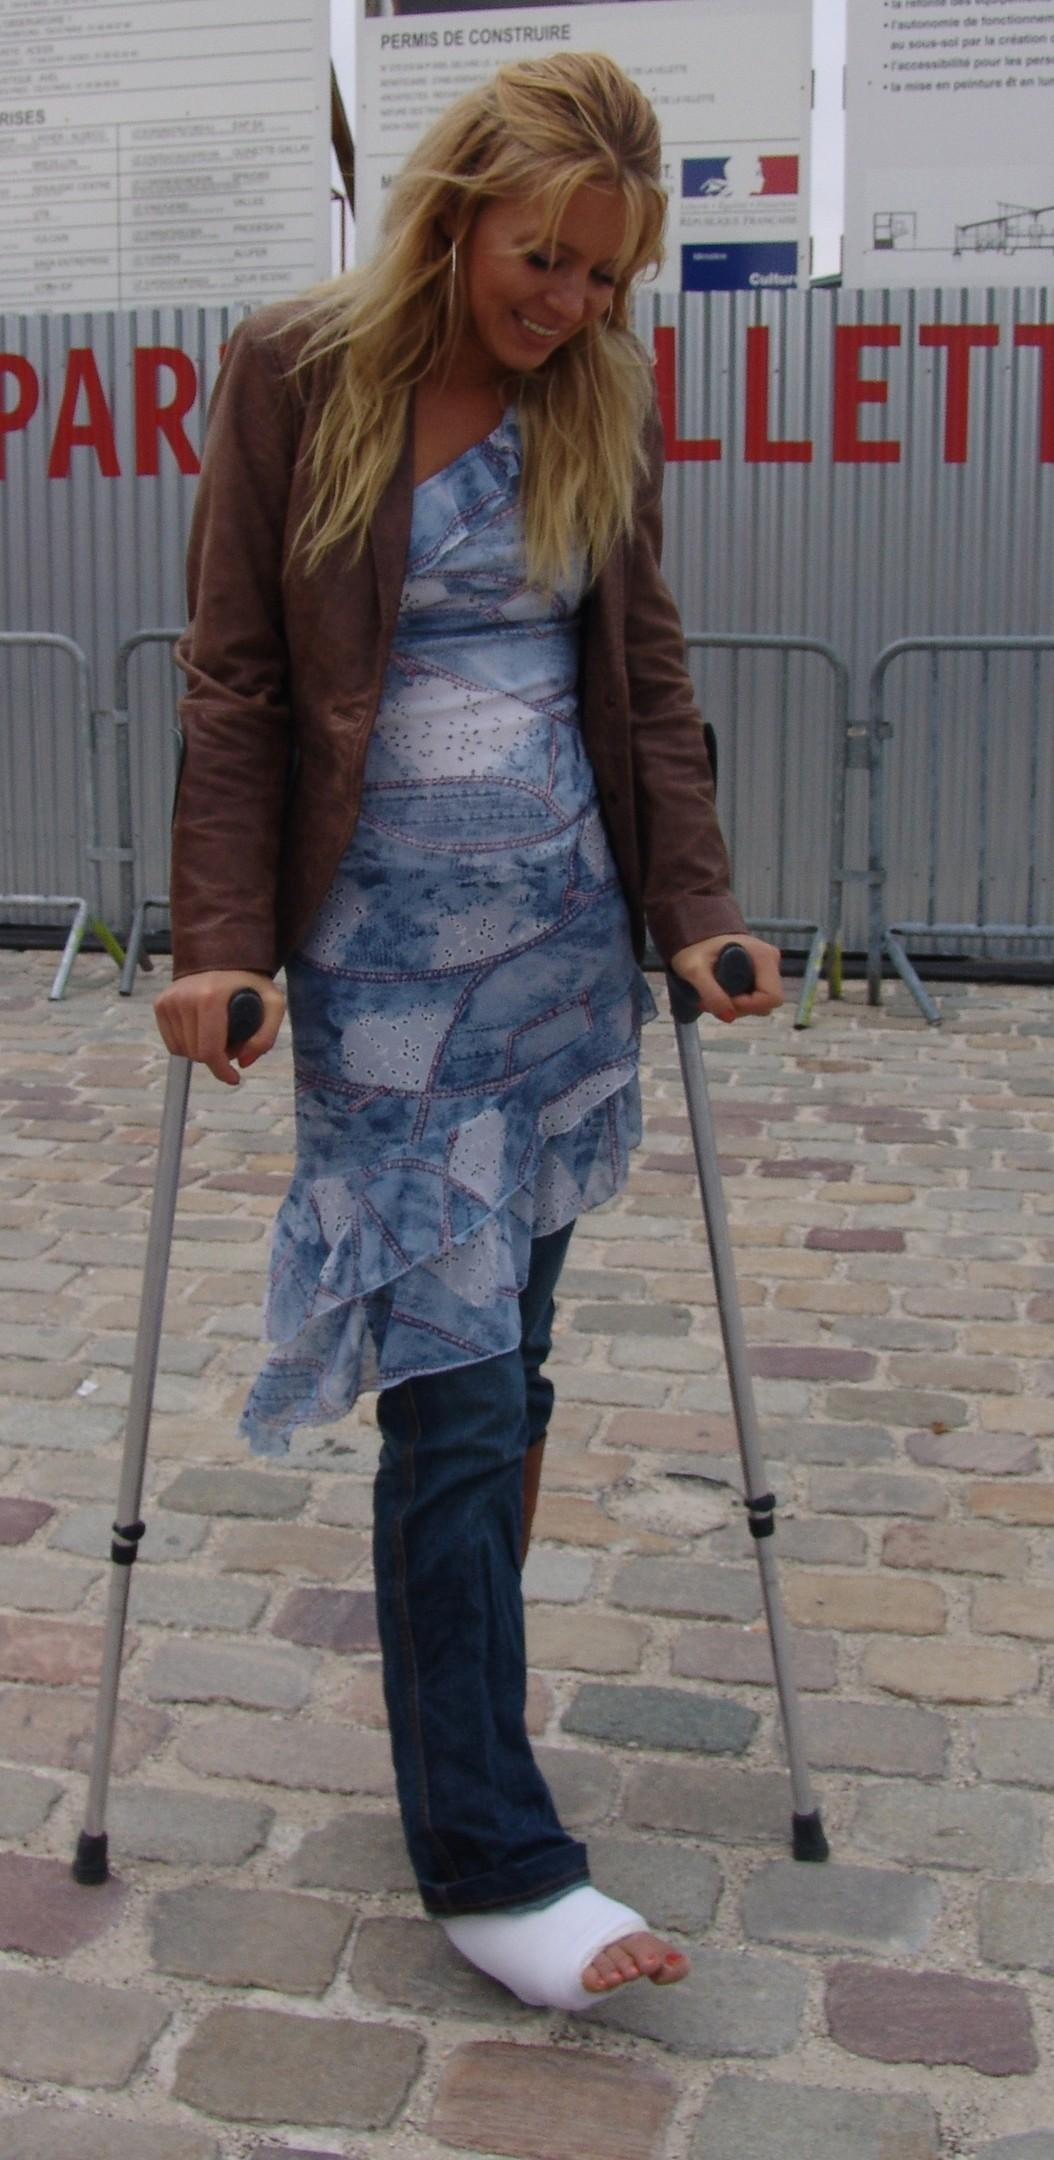crutches: (79, 54, 834, 2017)
